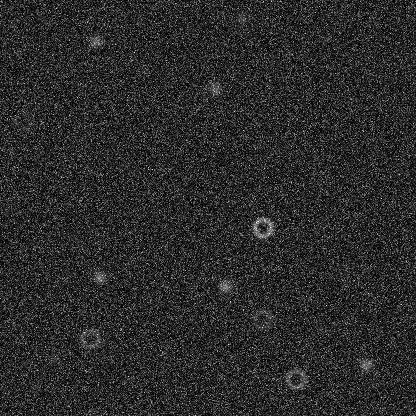Ring: (283, 366, 307, 390), (249, 307, 273, 331), (78, 326, 102, 350), (10, 108, 34, 132), (250, 215, 274, 239)
Spot: (233, 10, 249, 26), (206, 80, 222, 96), (45, 350, 61, 366), (357, 356, 373, 372), (91, 268, 107, 284), (87, 33, 103, 49), (217, 278, 233, 294)
